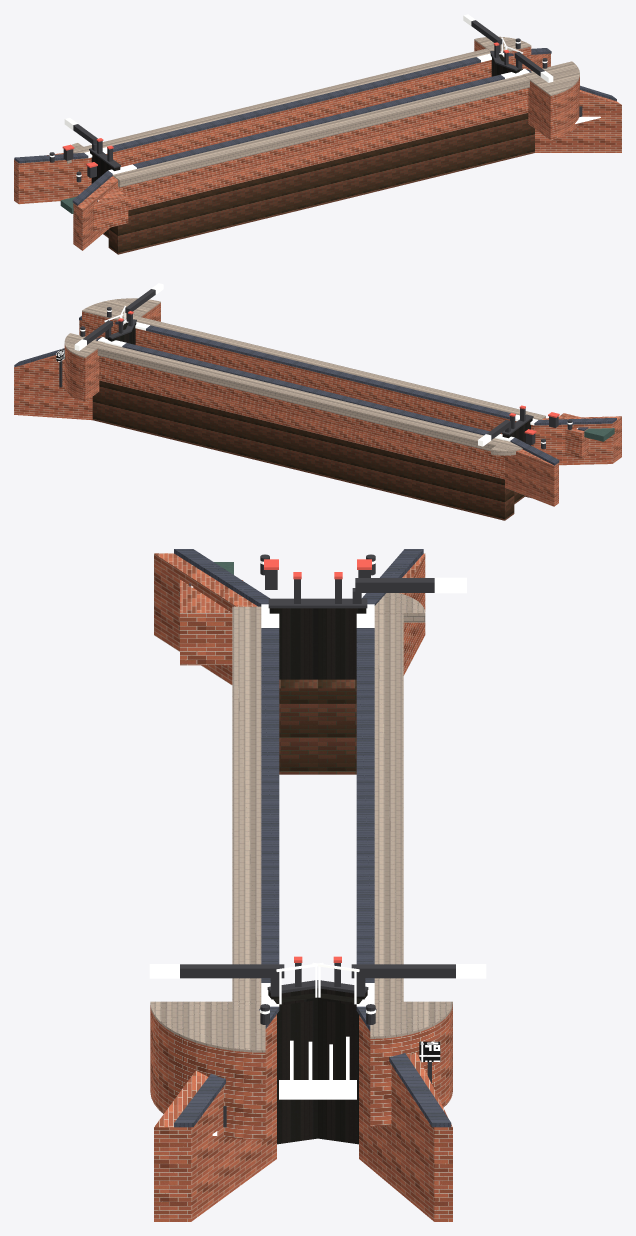
The model's file is lock-48.glb.
3 renders of one model, top to bottom at view 1: azimuth 30°, elevation 25°; view 2: azimuth 150°, elevation 25°; view 3: azimuth 270°, elevation 25°, orthographic. The views are drawn at different scales.
Visible parts, largest first — view 1: Chamber, ChamberWet, Edge, Coping.001, TopGateCap, Coping, TopGate; view 2: Chamber, ChamberWet, Edge, Coping.001, TopGateCap, Coping, TopGate, WeirWater; view 3: Chamber, Edge, Coping.001, TopGate, TopGateCap, ChamberWet, Coping, Leak.
Part boxes in pixels (bbox=[...]): Chamber: bbox=[14, 40, 621, 250]; ChamberWet: bbox=[103, 113, 534, 254]; Edge: bbox=[67, 36, 579, 187]; Coping.001: bbox=[14, 48, 616, 205]; TopGateCap: bbox=[49, 20, 582, 182]; Coping: bbox=[49, 14, 553, 176]; TopGate: bbox=[90, 54, 522, 183]; Chamber: bbox=[14, 303, 621, 506]; ChamberWet: bbox=[92, 380, 530, 520]; Edge: bbox=[64, 298, 545, 455]; Coping.001: bbox=[14, 316, 616, 465]; TopGateCap: bbox=[59, 289, 572, 449]; Coping: bbox=[74, 283, 572, 446]; TopGate: bbox=[104, 322, 532, 445]; WeirWater: bbox=[584, 428, 614, 441]; Chamber: bbox=[150, 553, 452, 1221]; Edge: bbox=[150, 593, 452, 1052]; Coping.001: bbox=[174, 549, 451, 1127]; TopGate: bbox=[268, 608, 367, 1144]; TopGateCap: bbox=[180, 554, 455, 1127]; ChamberWet: bbox=[279, 679, 356, 774]; Coping: bbox=[149, 560, 486, 1014]; Leak: bbox=[191, 586, 356, 1135].
Bounding box in the file's own units: 33.15 × 5.59 × 9.04.
11 materials, 8 textured.
